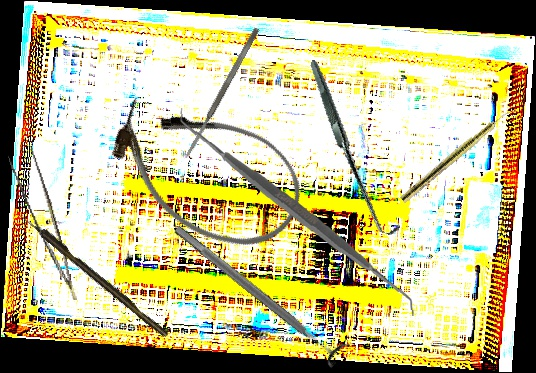Cannula: (92, 74, 321, 271)
Fixation Ring: (166, 215, 352, 370)
Handpiece: (399, 104, 517, 205)
Hook Surgical: (268, 59, 441, 238), (17, 209, 170, 340)
Spatula Surgical: (179, 100, 416, 324), (182, 26, 261, 160)
Tissue Forceps: (6, 142, 78, 308)
